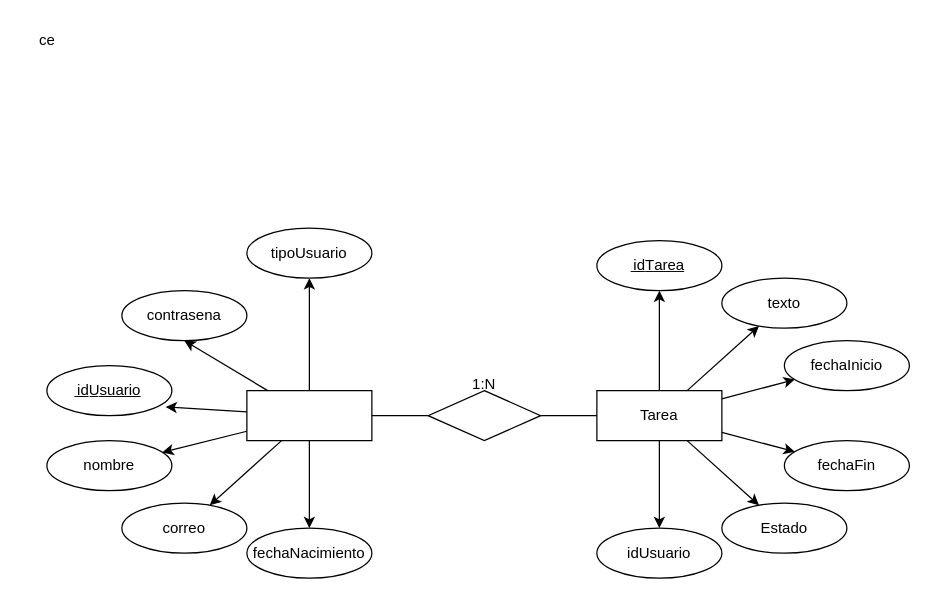
This 931x600 diagram has some shape labels left out. The centre of each missing label's shape, as x and y in pixels:
"Hace" belongs at point 484,415.
"Usuario" belongs at point 309,415.
